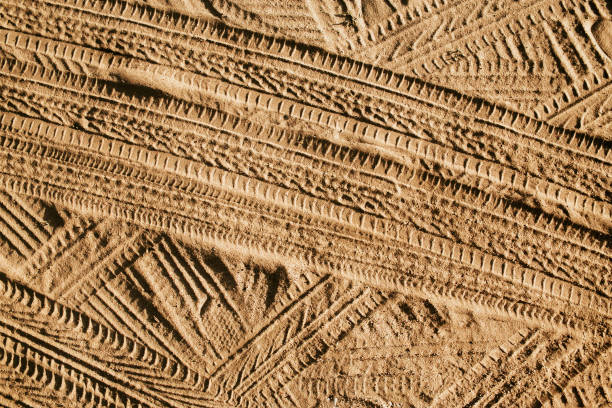vehicle_track: (0, 0, 611, 407), (81, 135, 608, 313), (7, 32, 548, 194), (0, 276, 202, 405), (3, 176, 224, 241), (111, 104, 209, 160), (398, 78, 426, 98), (177, 105, 202, 117), (184, 107, 192, 111)
